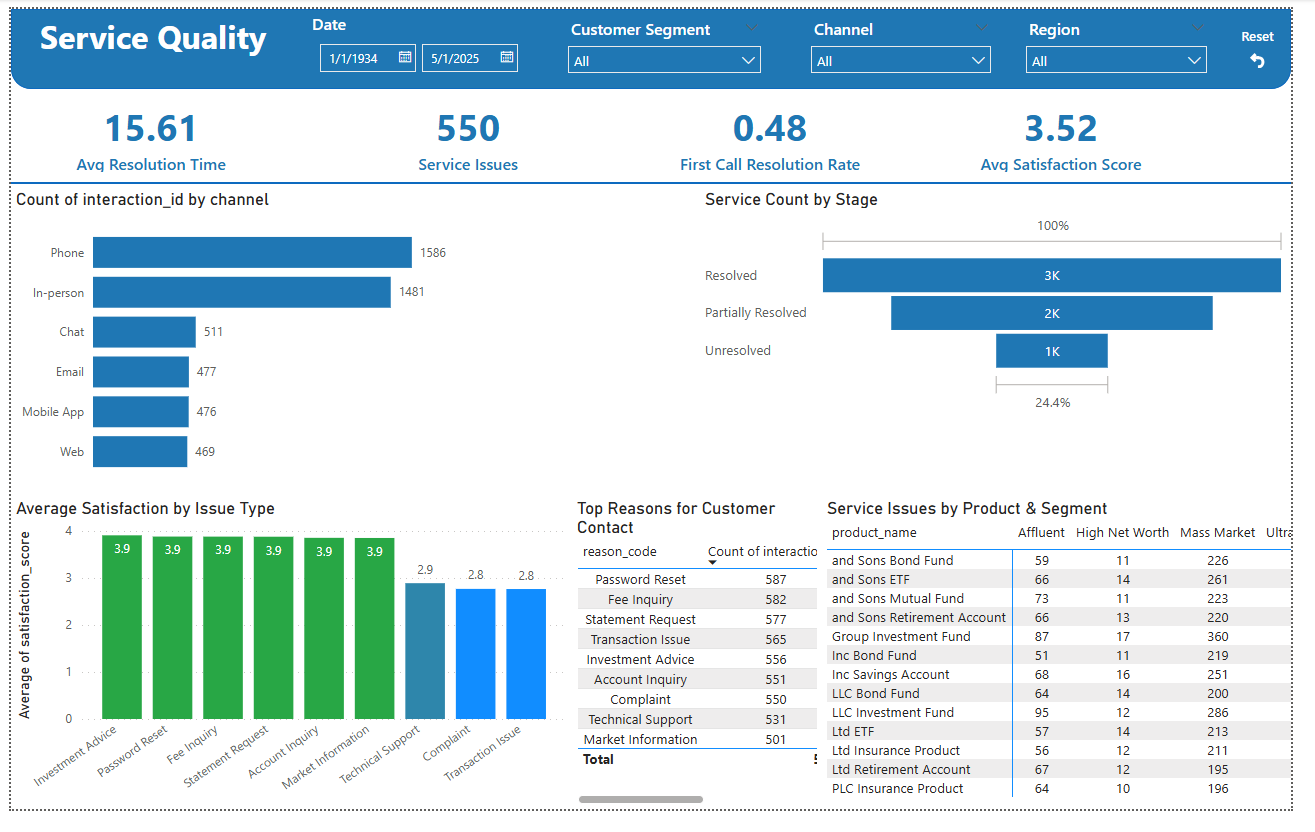

The dashboard page shown, as its layout file describes it:
{"tool":"powerbi","page":{"name":"Service Quality","canvas":[1280,800],"ordinal":3},"visuals":[{"type":"columnChart","title":"Average Satisfaction by Issue Type","fields":{"Category":["service_interactions.reason_code"],"Y":["Avg(service_interactions.satisfaction_score)"]},"box":[0,489,695,311],"z":0},{"type":"pivotTable","title":"Service Issues by Product & Segment","fields":{"Rows":["products.product_name"],"Columns":["customers.customer_segment"],"Values":["CountNonNull(service_interactions.interaction_id)"]},"box":[695,489,585,311],"z":1000},{"type":"tableEx","title":"Top Reasons for Customer Contact ","fields":{"Values":["service_interactions.reason_code","service_interactions.interaction_id","Avg(service_interactions.satisfaction_score)"]},"box":[871,180,409,309],"z":2000},{"type":"funnel","fields":{"Category":["ResolutionStage.Stage"],"Y":["ResolutionStage.Service Count"]},"box":[444,180,427,309],"z":3000},{"type":"card","fields":{"Values":["Avg(service_interactions.duration_minutes)"]},"box":[0,87.1,280.1,80.6],"z":4000},{"type":"card","fields":{"Values":["service_interactions.First Call Resolution Rate"]},"box":[619.2,87.1,280.1,80.6],"z":5000},{"type":"card","fields":{"Values":["service_interactions.Service Issues"]},"box":[316.6,87.1,280.1,80.6],"z":6000},{"type":"card","fields":{"Values":["service_interactions.Avg Satisfaction Score"]},"box":[909.6,87.1,280.1,80.6],"z":7000},{"type":"shape","box":[0,0,1280,80],"z":8000},{"type":"textbox","box":[24.4,0,256.7,72.1],"z":9000},{"type":"slicer","title":"Date","fields":{"Values":["Date.Date"]},"box":[296,3.7,240.7,68.4],"z":10000},{"type":"slicer","fields":{"Values":["customers.customer_segment"]},"box":[547.1,3.7,212.6,68.4],"z":11000},{"type":"slicer","fields":{"Values":["customers.address_state"]},"box":[789.7,3.7,200.5,68.4],"z":12000},{"type":"actionButton","title":"Reset","box":[1227.2,17.8,38.4,45],"z":13000},{"type":"shape","box":[0,167.7,1279.6,12.2],"z":14000},{"type":"slicer","fields":{"Values":["customers.address_state"]},"box":[1005.2,3.7,200.5,68.4],"z":15000},{"type":"clusteredBarChart","fields":{"Category":["service_interactions.channel"],"Y":["Count(service_interactions.interaction_id)"]},"box":[0,180,444,309],"z":16000}]}

Visuals, with their boxes in screenshot pixels (x1, y1, x2, y2), scaled from the page's 1280x800 canvas onto the 1315x832 screenshot:
"Average Satisfaction by Issue Type" columnChart: 0, 509, 714, 831
"Service Issues by Product & Segment" pivotTable: 714, 509, 1314, 831
"Top Reasons for Customer Contact " tableEx: 895, 187, 1314, 509
funnel - ResolutionStage.Stage x ResolutionStage.Service Count: 456, 187, 895, 509
card - Avg(service_interactions.duration_minutes): 0, 91, 288, 174
card - service_interactions.First Call Resolution Rate: 636, 91, 924, 174
card - service_interactions.Service Issues: 325, 91, 613, 174
card - service_interactions.Avg Satisfaction Score: 934, 91, 1222, 174
shape: 0, 0, 1314, 83
textbox: 25, 0, 289, 75
"Date" slicer: 304, 4, 551, 75
slicer - customers.customer_segment: 562, 4, 780, 75
slicer - customers.address_state: 811, 4, 1017, 75
"Reset" actionButton: 1261, 19, 1300, 65
shape: 0, 174, 1314, 187
slicer - customers.address_state: 1033, 4, 1239, 75
clusteredBarChart - service_interactions.channel x Count(service_interactions.interaction_id): 0, 187, 456, 509
